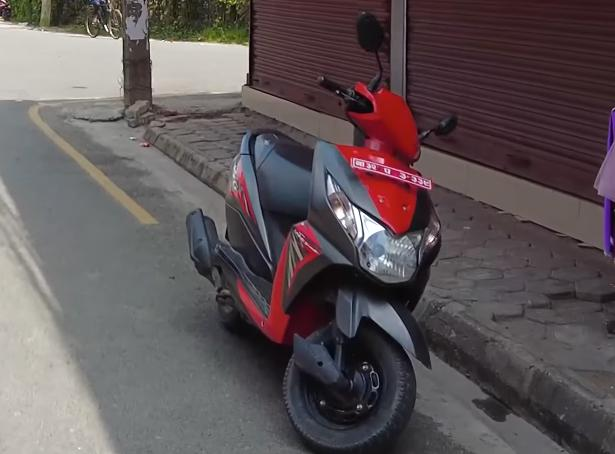scooter: (183, 76, 462, 454)
